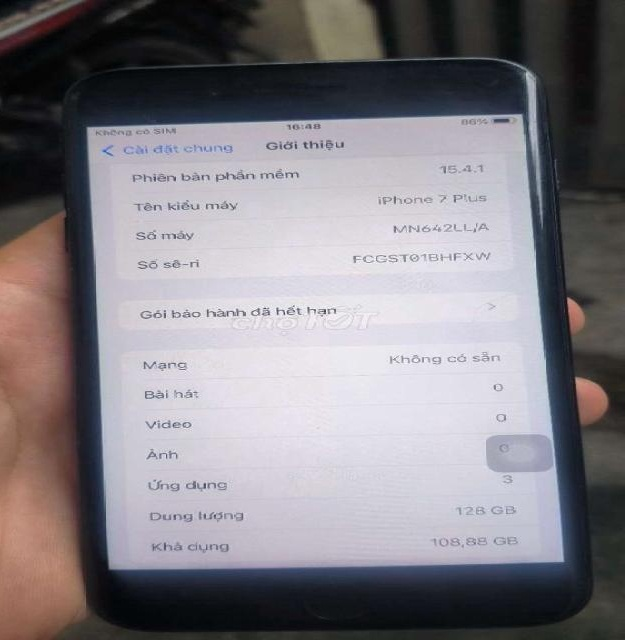scratch: (514, 65, 558, 231), (112, 57, 480, 67)
